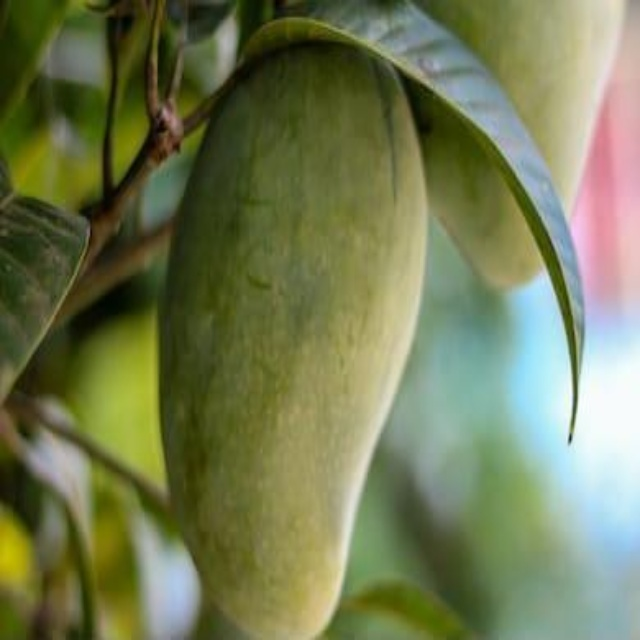mango: (167, 38, 426, 639), (409, 2, 628, 305)
